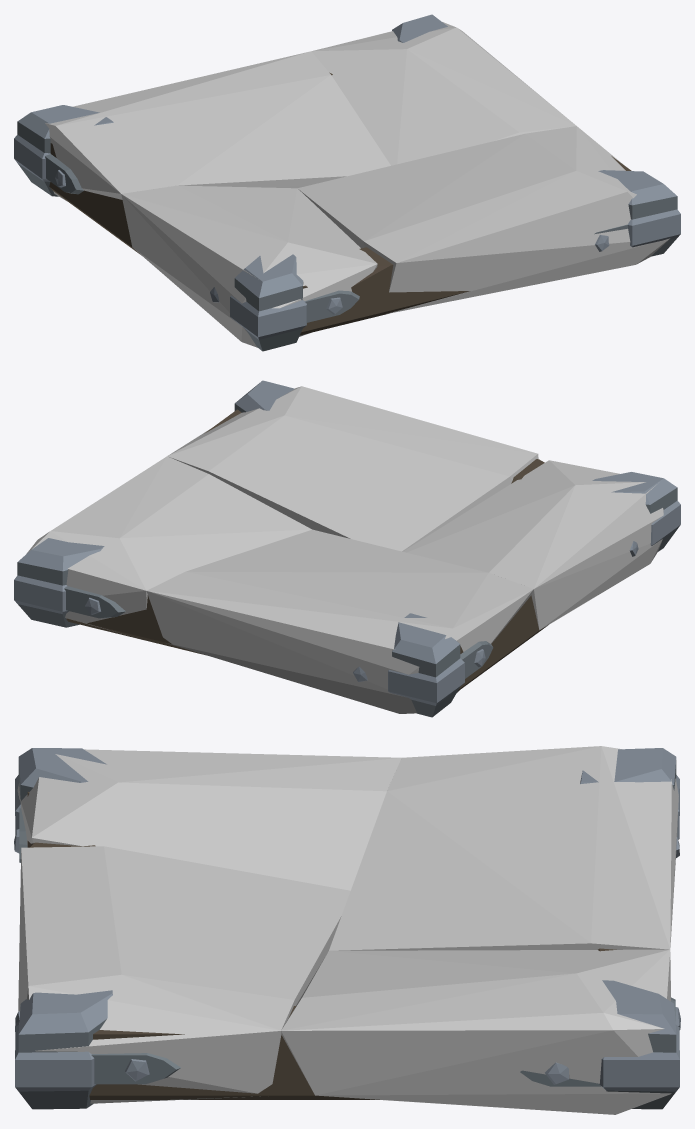
File: SM_Prop_Crate03_lid.fbx
The picture shows the model from 3 angles, top to bottom: view 1: azimuth 30°, elevation 25°; view 2: azimuth 150°, elevation 25°; view 3: azimuth 270°, elevation 25°; orthographic projection. The views are drawn at different scales.
Parts seen in each view (by area): view 1: SM_Prop_Crate03_lid_ConvexHulls, SM_Prop_Crate03_lid; view 2: SM_Prop_Crate03_lid_ConvexHulls, SM_Prop_Crate03_lid; view 3: SM_Prop_Crate03_lid_ConvexHulls, SM_Prop_Crate03_lid.
Part boxes in pixels (x1,y1,x2,y2): SM_Prop_Crate03_lid_ConvexHulls: (45,22,669,347); SM_Prop_Crate03_lid: (14,14,680,351); SM_Prop_Crate03_lid_ConvexHulls: (26,386,663,713); SM_Prop_Crate03_lid: (14,380,680,717); SM_Prop_Crate03_lid_ConvexHulls: (17,746,678,1114); SM_Prop_Crate03_lid: (14,748,680,1109).
Bounding box in the file's own units: 91.02 × 91.01 × 15.25.
2 materials, 1 textured.
